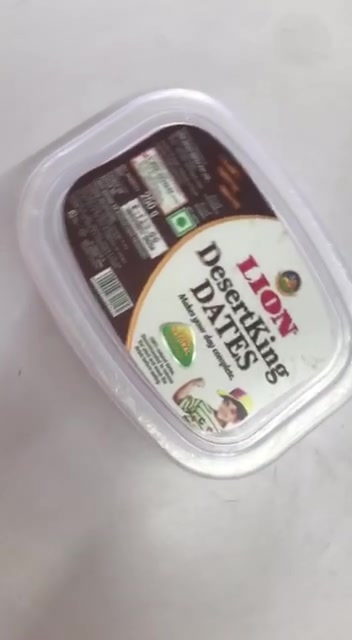Lion dates: (15, 86, 352, 477)
